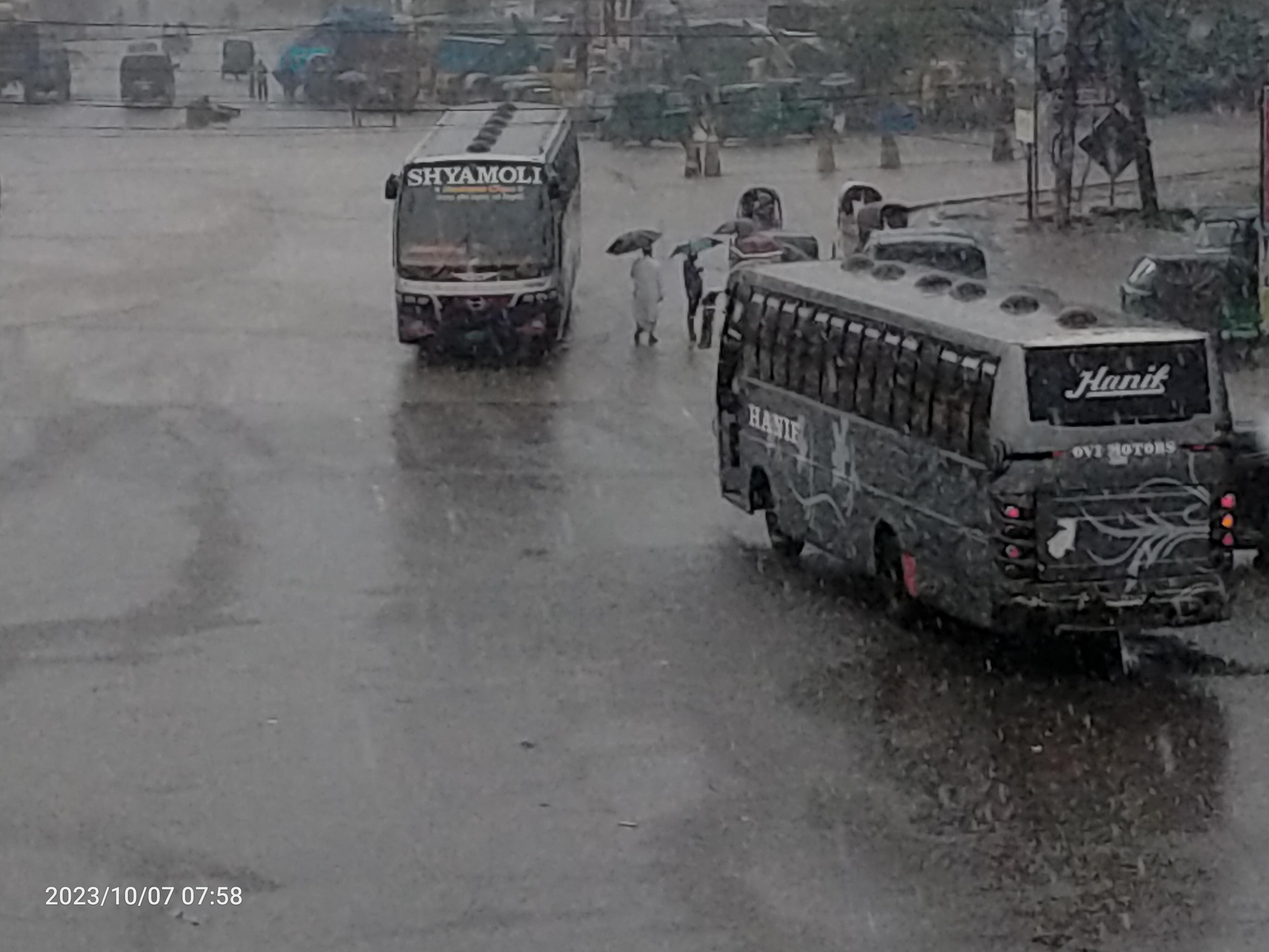Bus: (698, 245, 1261, 668), (370, 86, 594, 387)
Car: (112, 47, 184, 118), (831, 175, 904, 240), (730, 178, 798, 234)
Truck: (10, 29, 83, 107)
